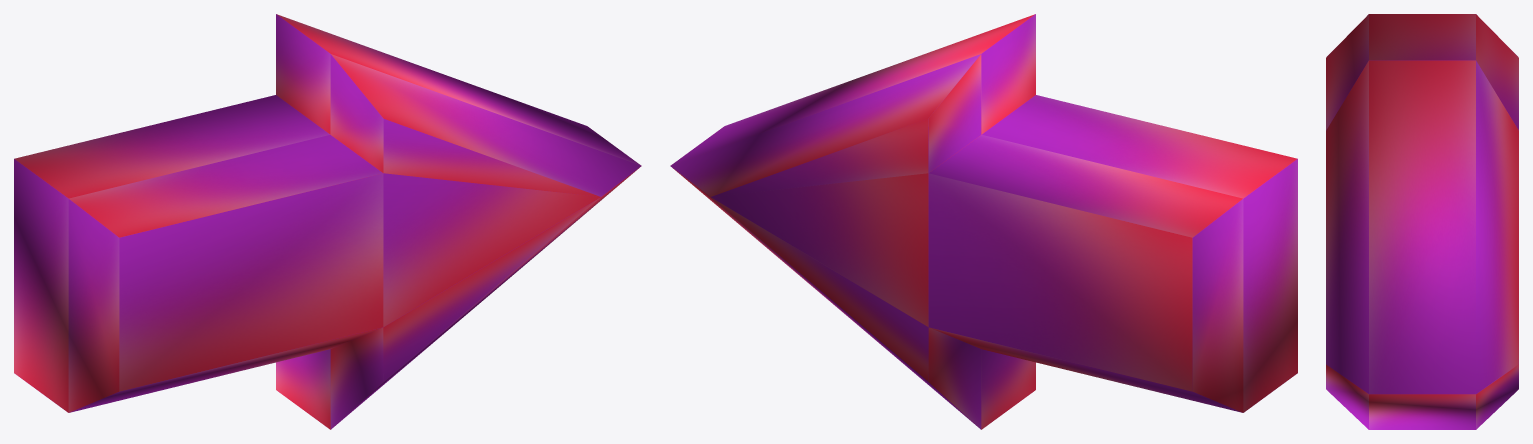
The model's file is arrow.obj.
3 renders of one model, left to right at view 1: azimuth 30°, elevation 25°; view 2: azimuth 150°, elevation 25°; view 3: azimuth 270°, elevation 25°, orthographic.
Visible parts, largest first — view 1: Arrow; view 2: Arrow; view 3: Arrow.
Part boxes in pixels (x1=…): Arrow: x1=14, y1=14, x2=641, y2=429; Arrow: x1=670, y1=14, x2=1297, y2=429; Arrow: x1=1326, y1=14, x2=1518, y2=429.
Size of the model in its own units: 2.03 by 1.27 by 0.6.
Materials: 1 (1 with a texture image).
